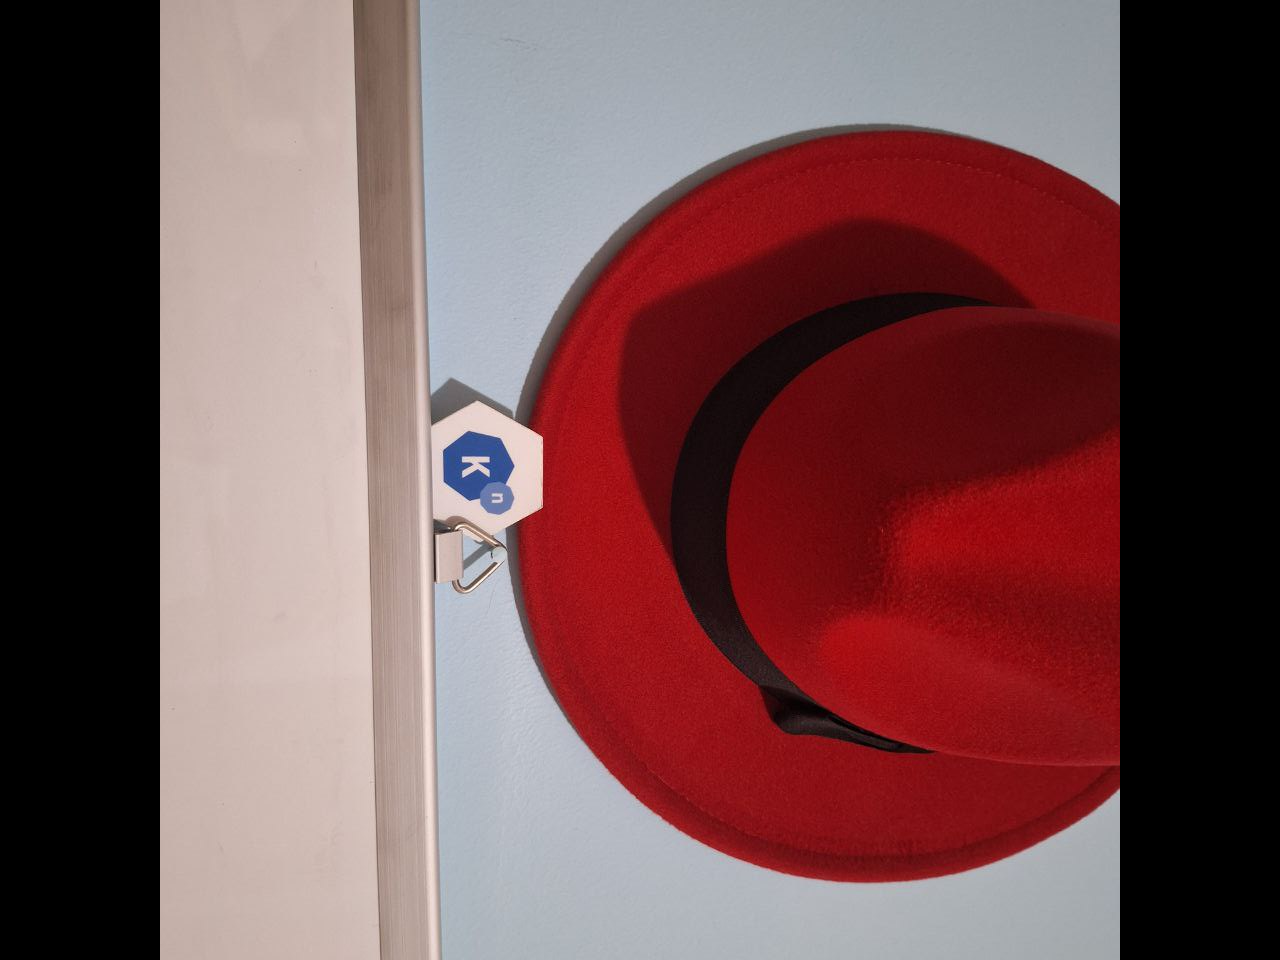knative: (443, 431, 518, 516)
